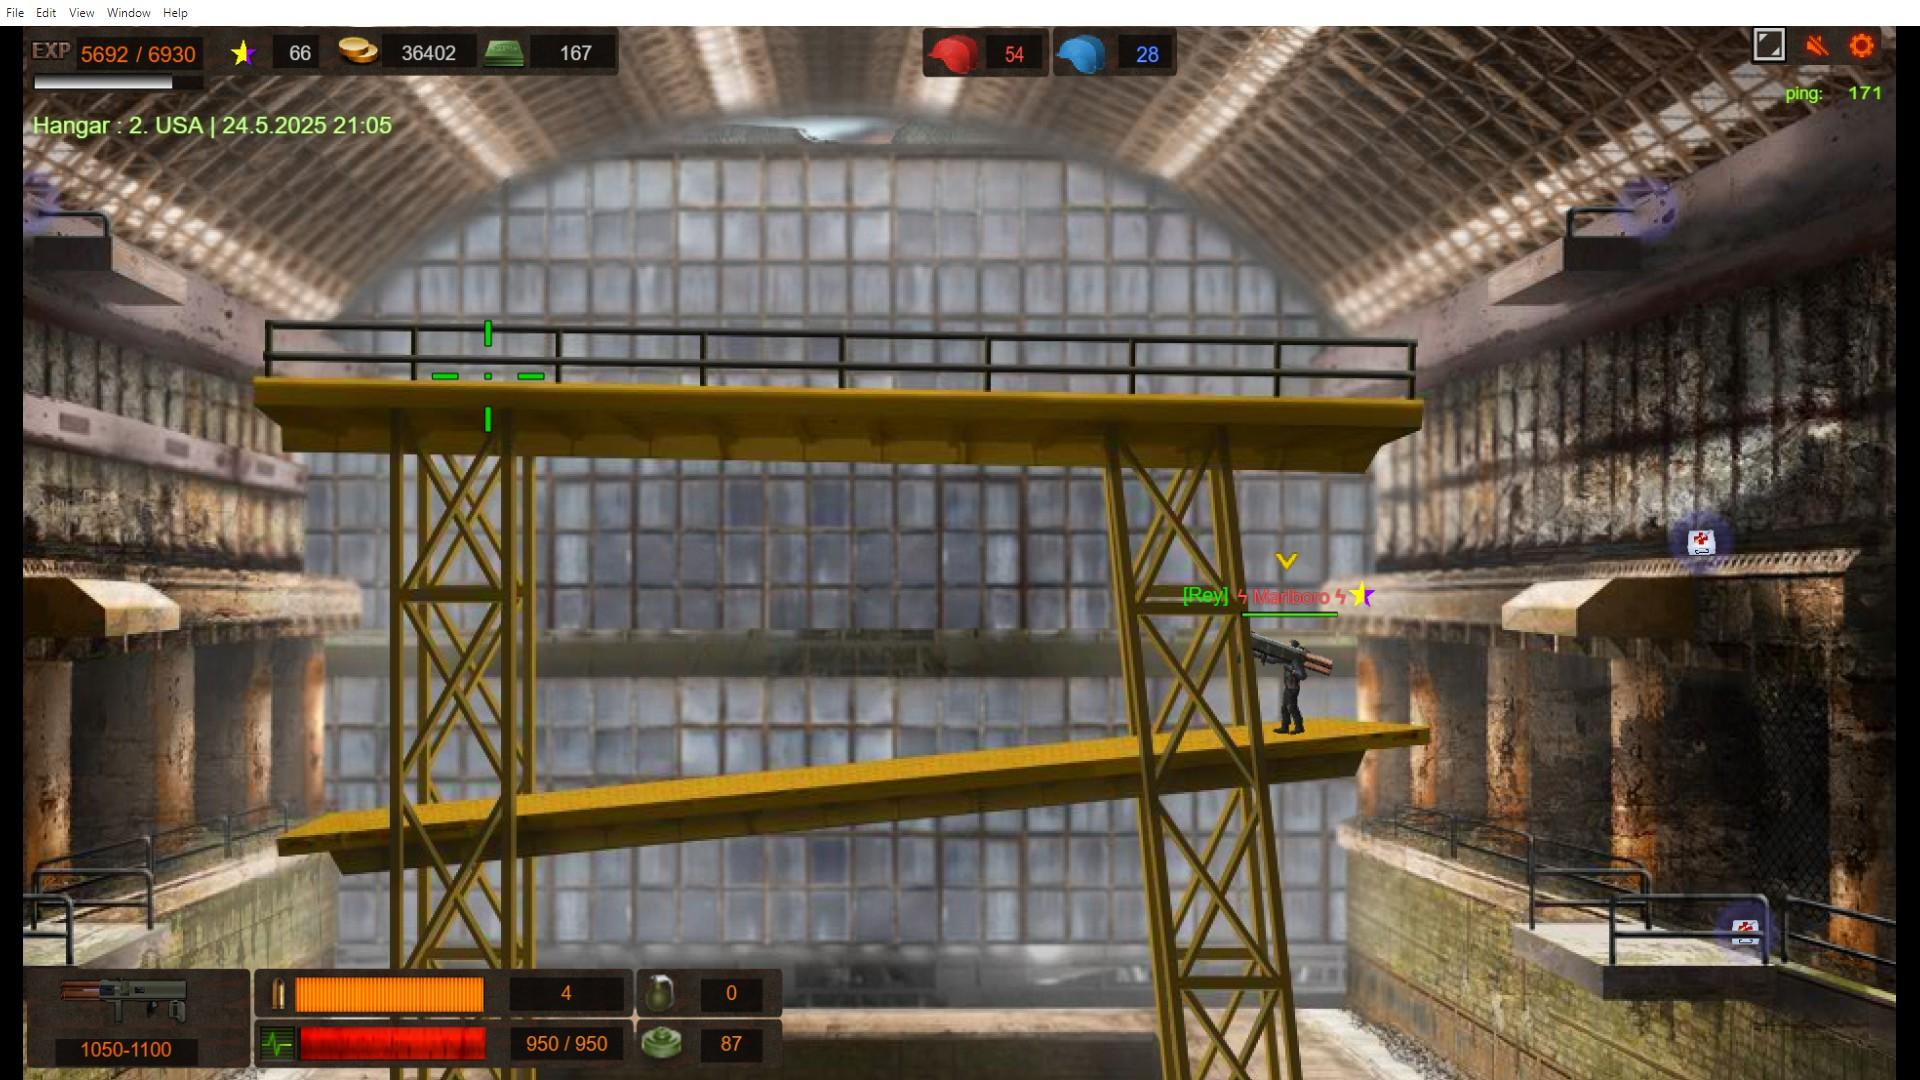enemy: (1283, 640, 1305, 735)
